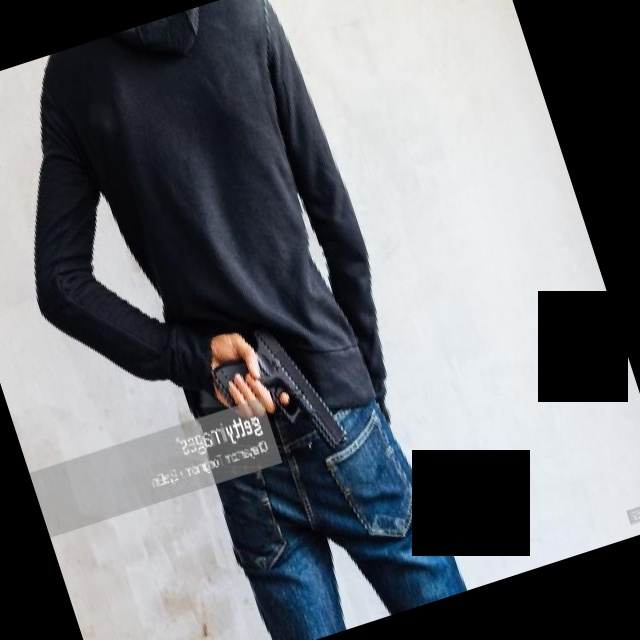gun: (202, 317, 361, 481)
